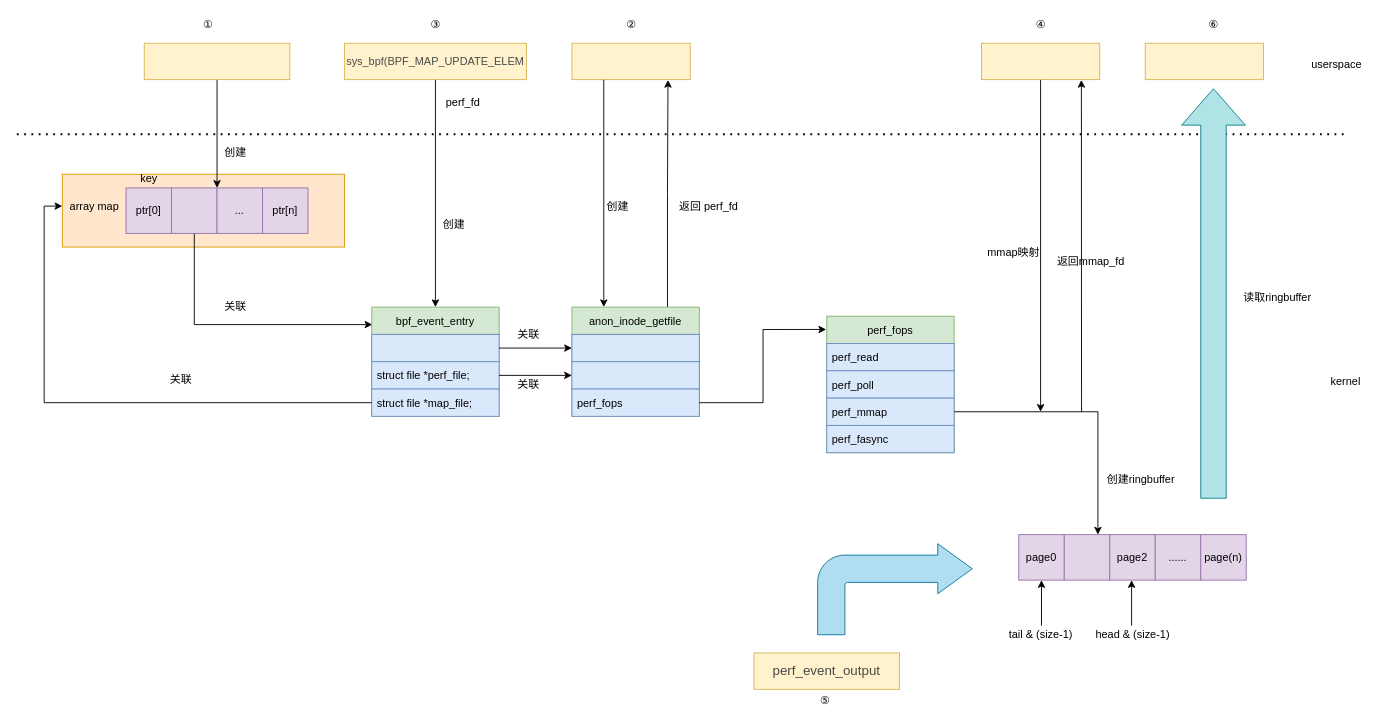
Image size: 1383x724. Some labels were removed from this diagram. The shapes that lost their labels are listed below. From the top down, each one's box as (x1, y1, x2, y2) in pixels, then its label:
(143, 42, 290, 80): sys_bpf(BPF_MAP_CREATE)
(571, 42, 690, 80): __NR_perf_event_open
(981, 42, 1100, 80): mmap
(1144, 42, 1264, 80): perf_buffer__poll
(171, 187, 217, 233): ptr[1]
(371, 334, 499, 362): struct perf_event *event;
(571, 334, 699, 362): event
(571, 361, 699, 389): perf_file
(1063, 534, 1110, 580): page1
(817, 543, 972, 635): 写入ringbuffer
